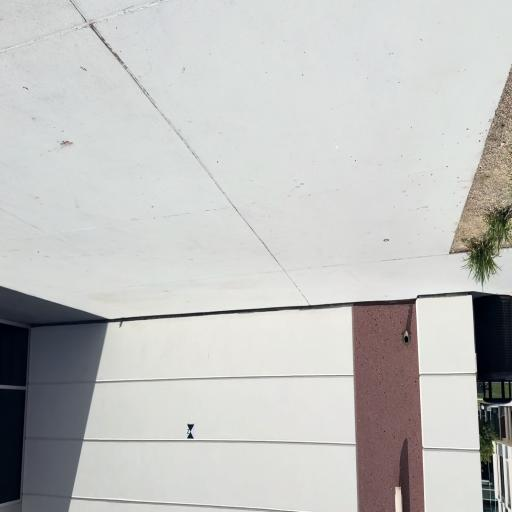target7: (186, 424, 194, 439)
